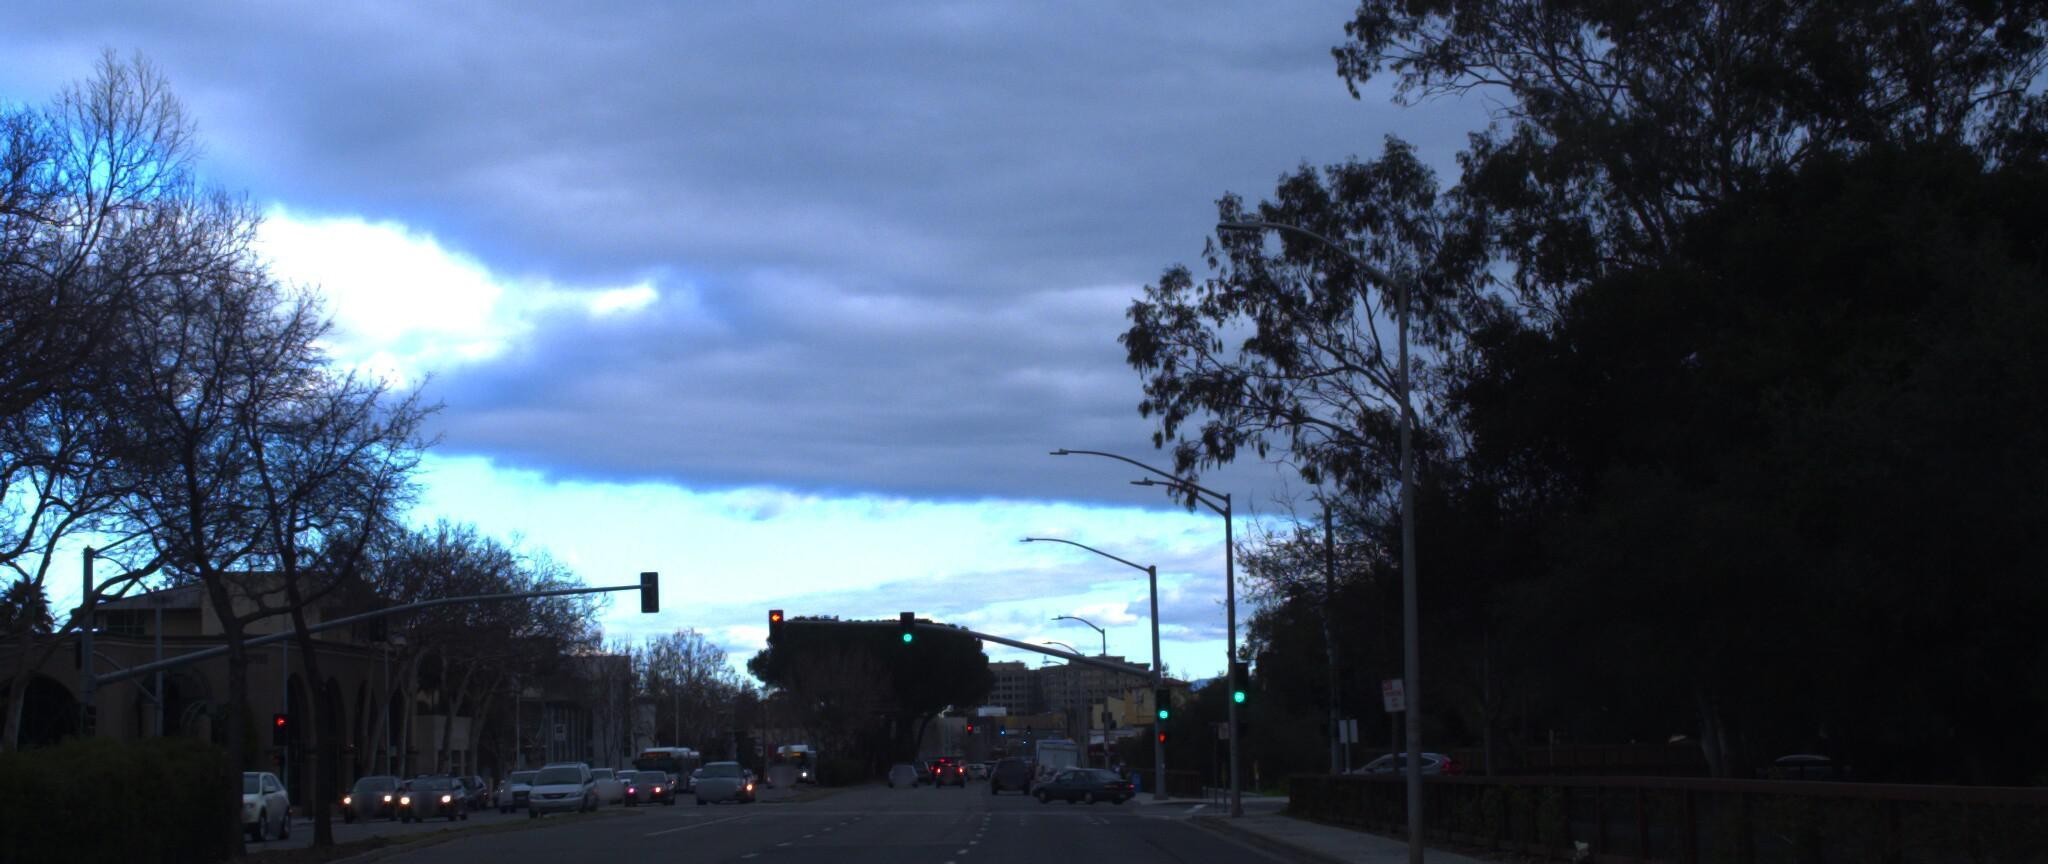car: (178, 770, 296, 846)
